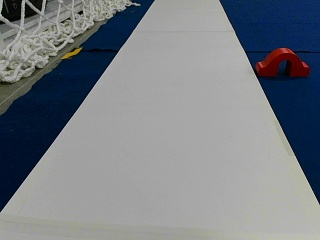bridge: (257, 47, 308, 75)
